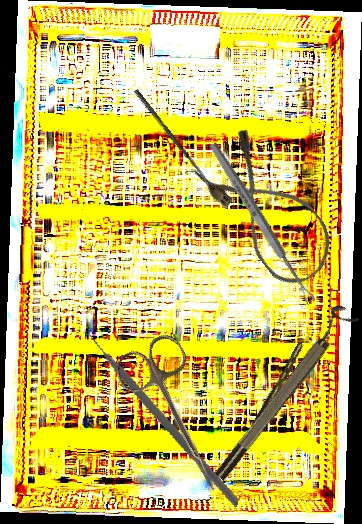Cannula: (189, 124, 347, 297)
Chopper: (49, 311, 280, 509)
Fixation Ring: (204, 301, 360, 484)
Iris Scissors: (109, 329, 249, 506)
Surgical Spoon: (207, 141, 317, 306), (133, 88, 213, 189)
Tissue Forceps: (236, 341, 310, 452)
